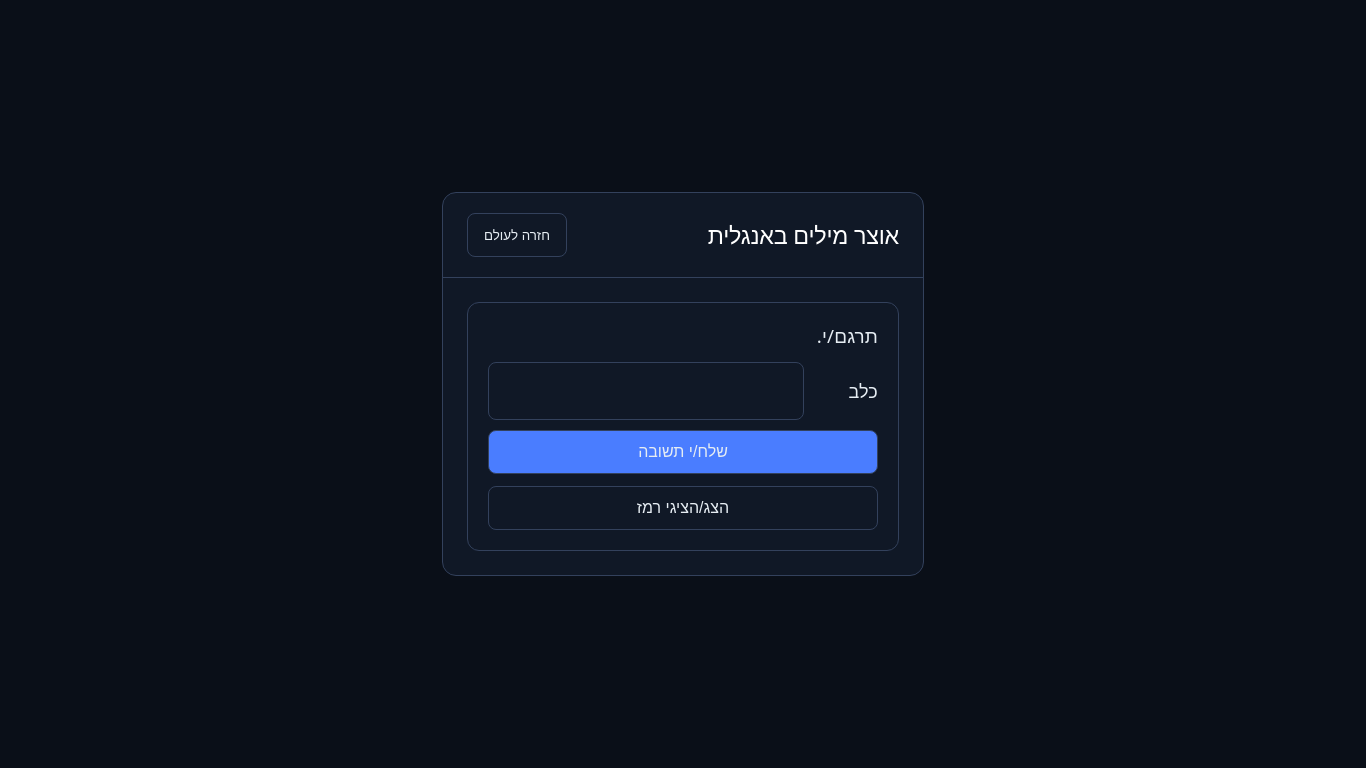
Test: LessonStage — return-to-world button is unique across every render state and never triggers onResult › renders exactly one return-to-world button for an english lesson after a passing answer (success state)
Step 1. Type "dog" into the field with test id "english-answer-input-0" → [646, 390], box [488,362,804,420]
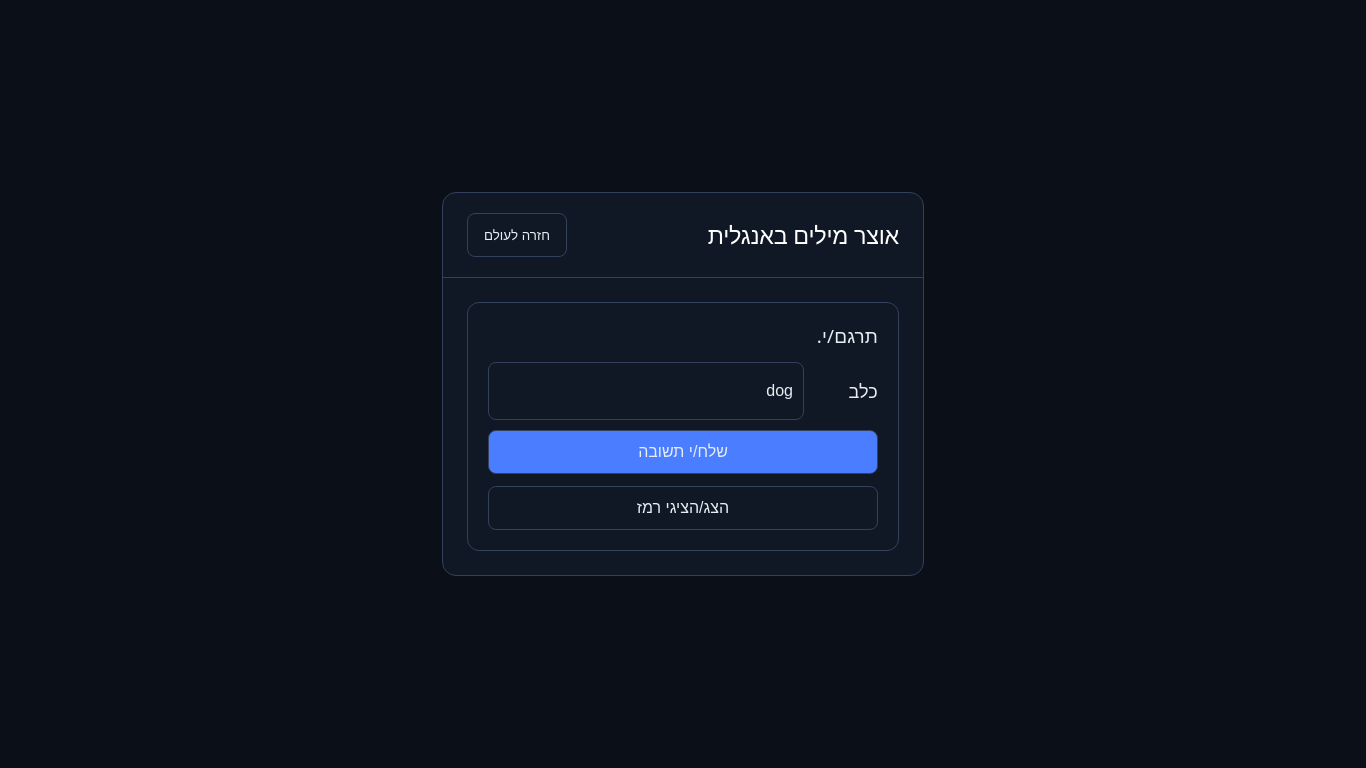
Step 2. Click the button with test id "english-submit-button" → [683, 452], box [488,430,878,474]
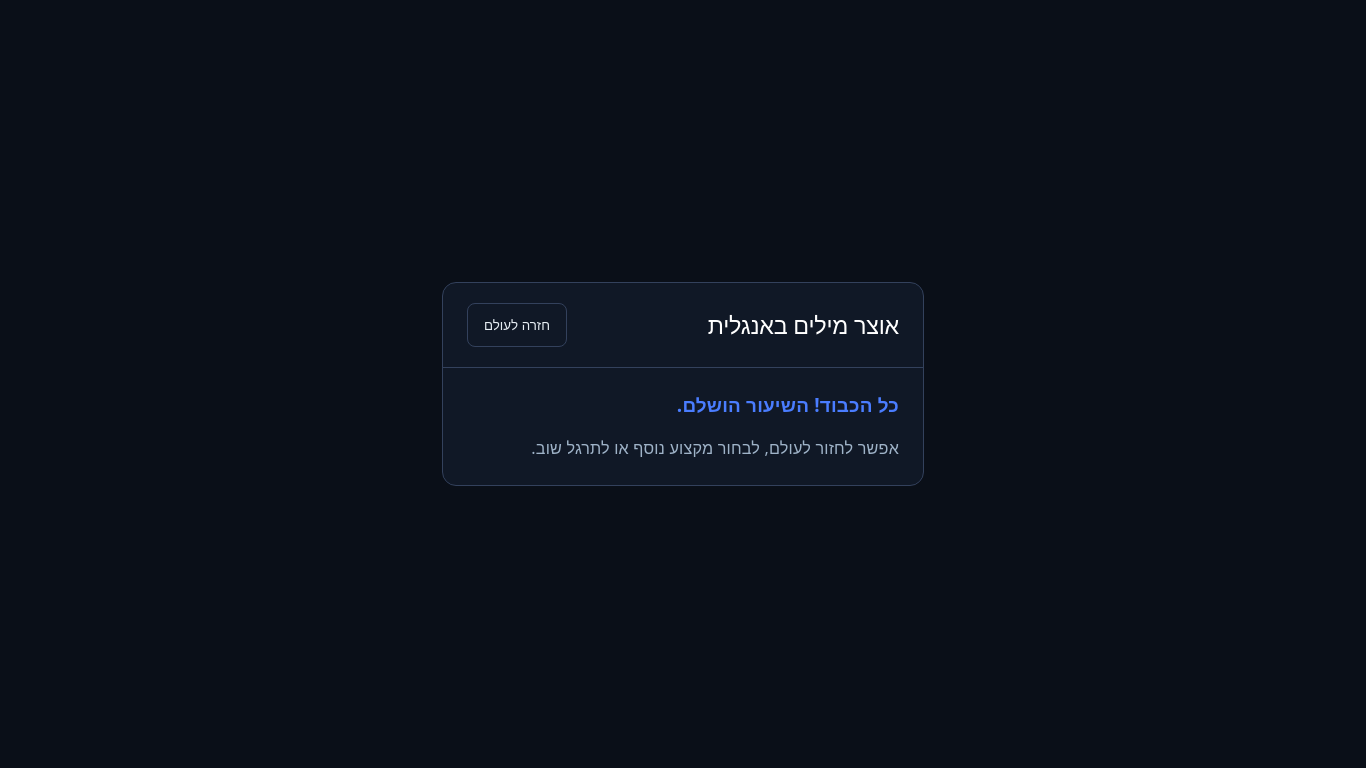
Expected: the number of buttons with test id "lesson-return-to-world-button" is 1, [467,303,567,347]
Expected: the text "כל הכבוד! השיעור הושלם." is shown, [677,392,899,418]
